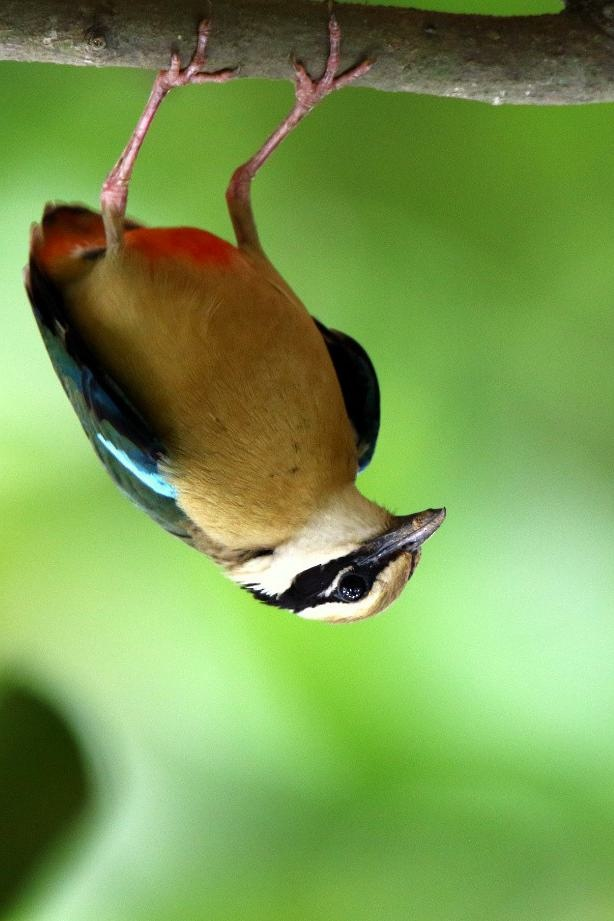pitta: (37, 40, 476, 637)
